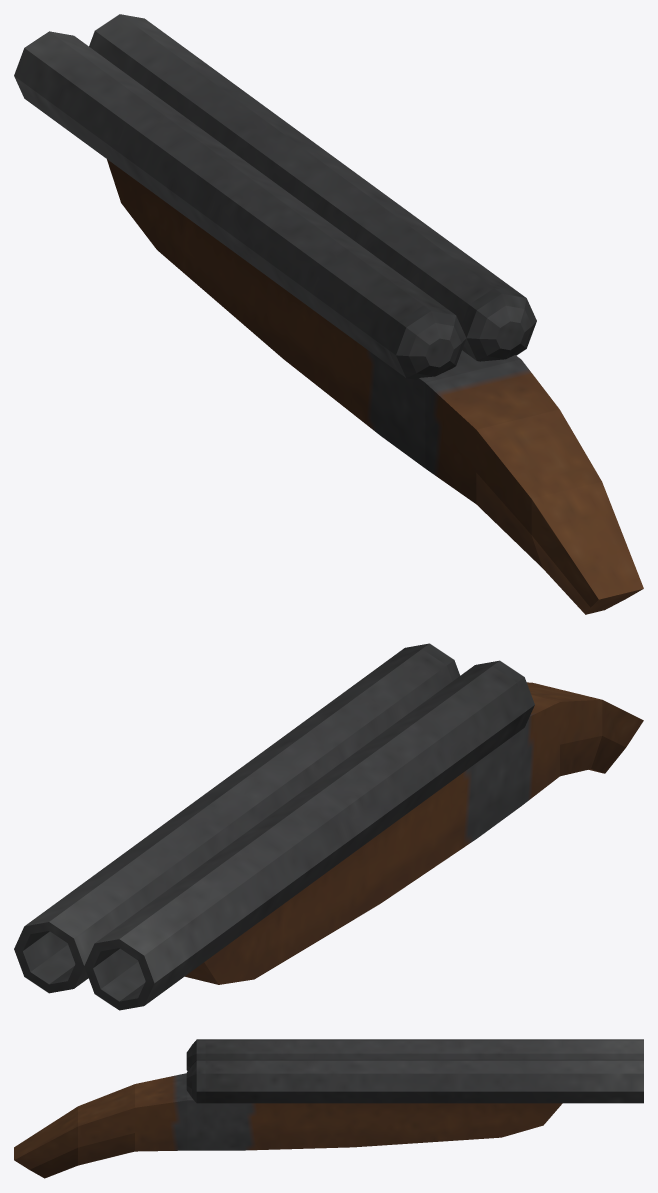
The model's file is escopetatextura.fbx.
3 renders of one model, top to bottom at view 1: azimuth 30°, elevation 25°; view 2: azimuth 150°, elevation 25°; view 3: azimuth 270°, elevation 25°, orthographic. The views are drawn at different scales.
Parts seen in each view (by area): view 1: Cube; view 2: Cube; view 3: Cube.
Boxes of the visible parts, x1,y1,x2,y2 form: Cube: (14, 14, 643, 614); Cube: (14, 643, 643, 1010); Cube: (14, 1039, 643, 1178).
Bounding box in the file's own units: 108 × 157 × 714.
